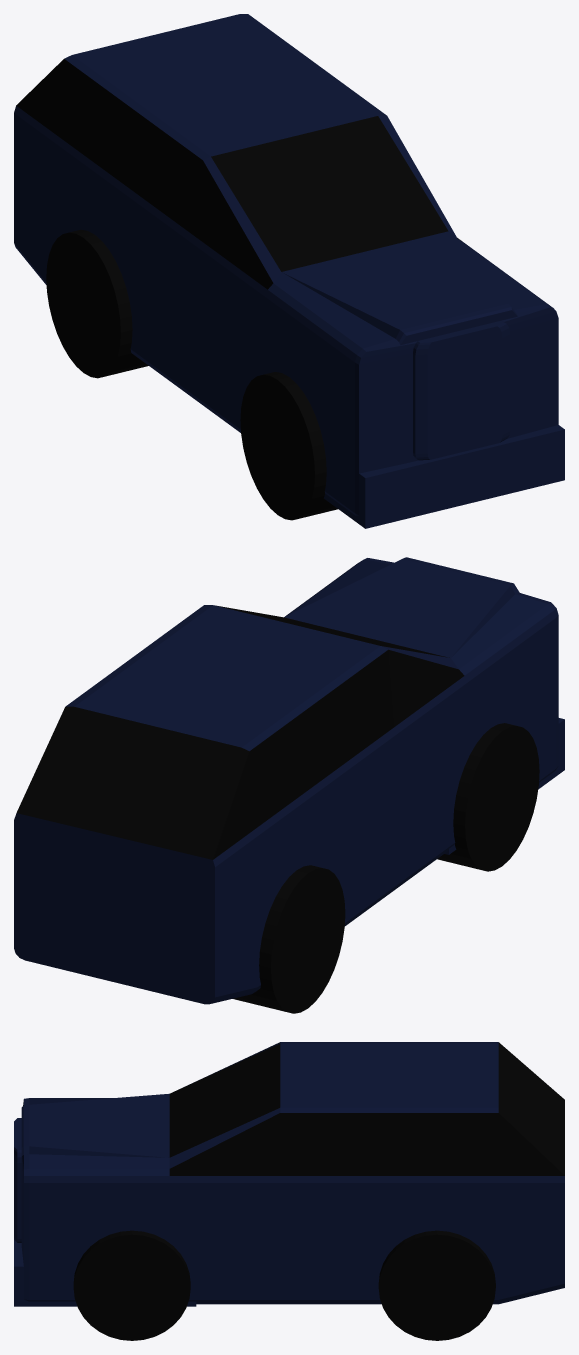
The model's file is SUV.glb.
3 renders of one model, top to bottom at view 1: azimuth 30°, elevation 25°; view 2: azimuth 150°, elevation 25°; view 3: azimuth 270°, elevation 25°, orthographic. The views are drawn at different scales.
Visible parts, largest first — view 1: Cube.001; view 2: Cube.001; view 3: Cube.001.
Part boxes in pixels (left/top/right/bottom): Cube.001: left=14, top=14, right=564, bottom=528; Cube.001: left=14, top=557, right=564, bottom=1013; Cube.001: left=14, top=1042, right=564, bottom=1340.
Size of the model in its own units: 2.22 by 2.69 by 6.04.
